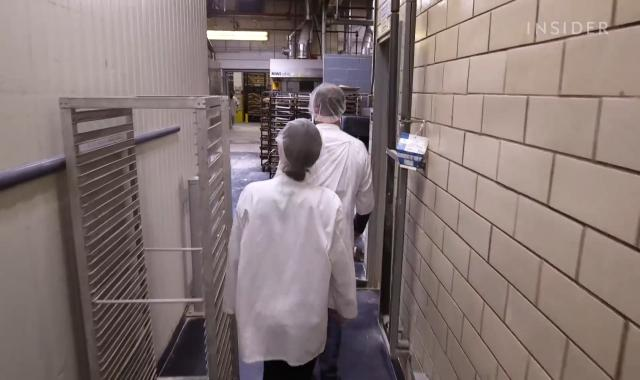hairnet: (277, 116, 321, 180), (311, 83, 347, 124)
